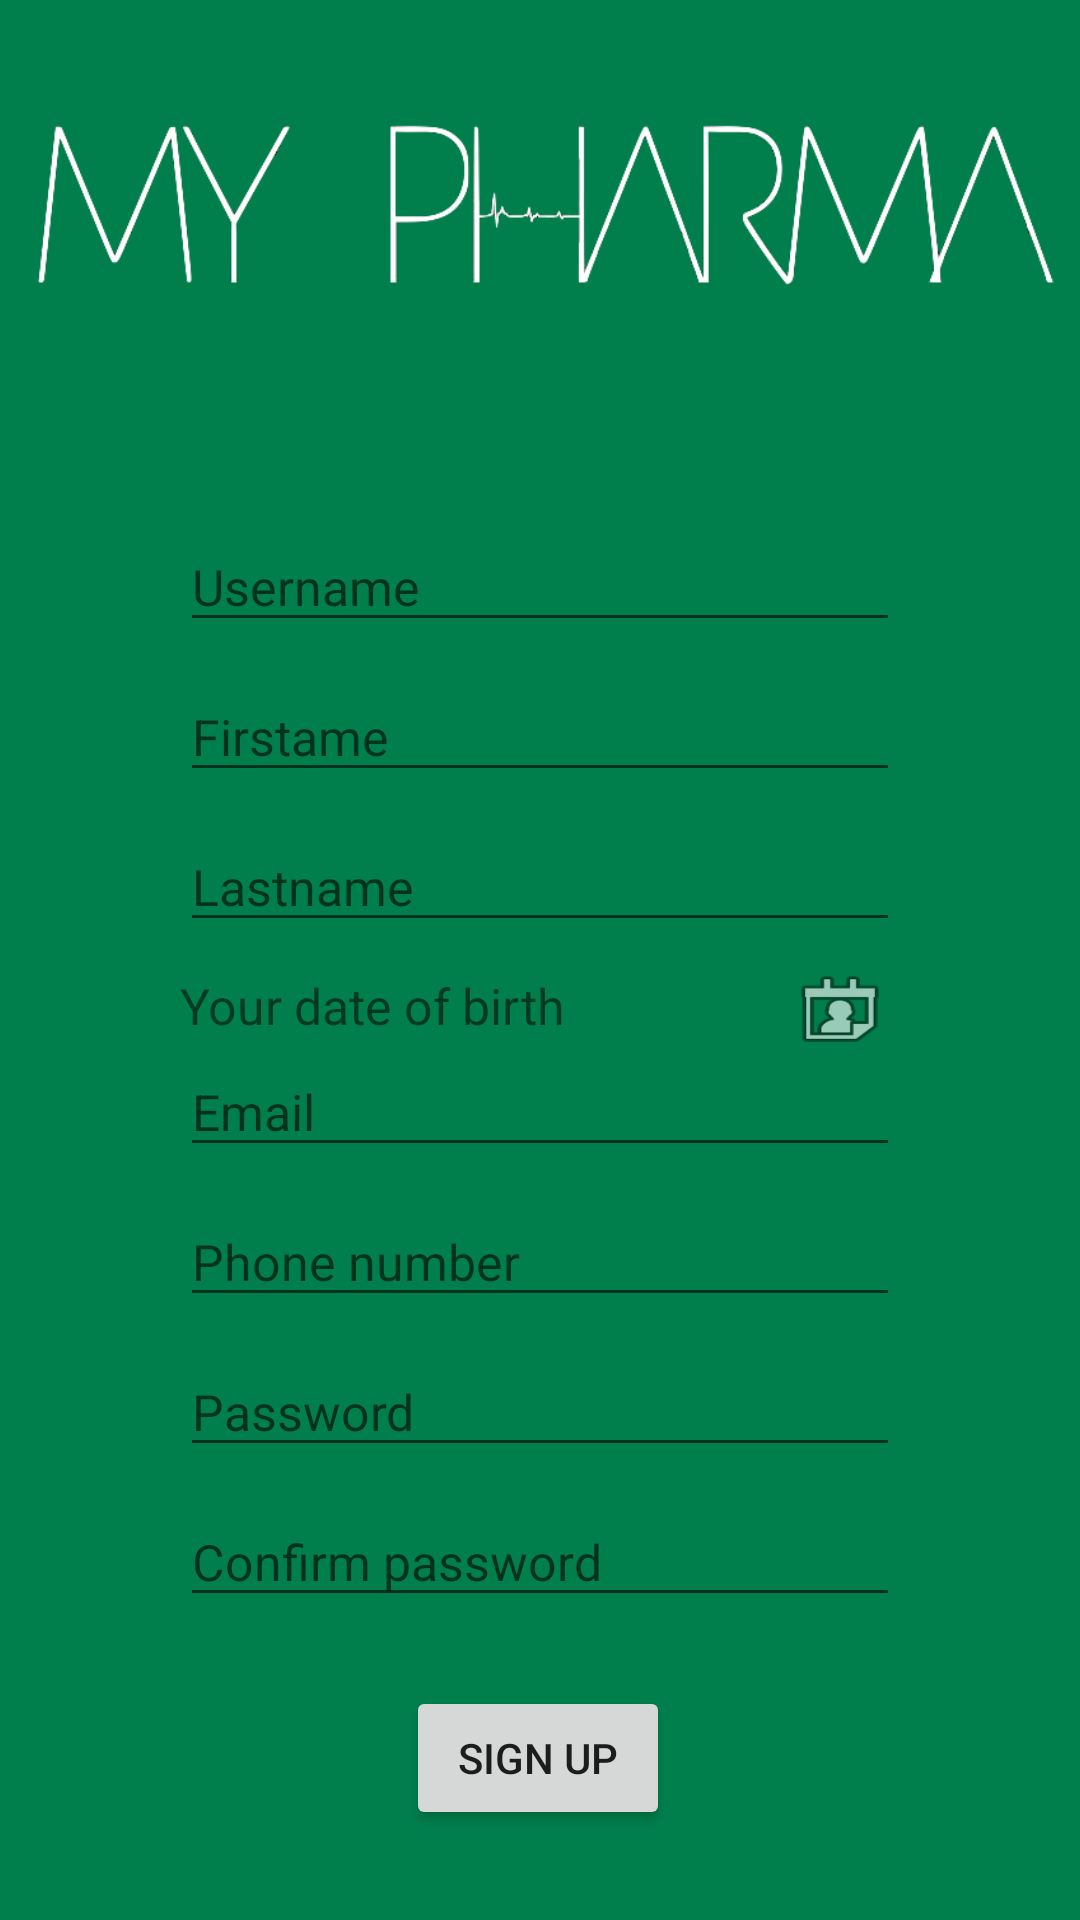

Screen size 1080×1920. Icon name, then its center in pixels as (x,y):
calendar: (840,1009)
